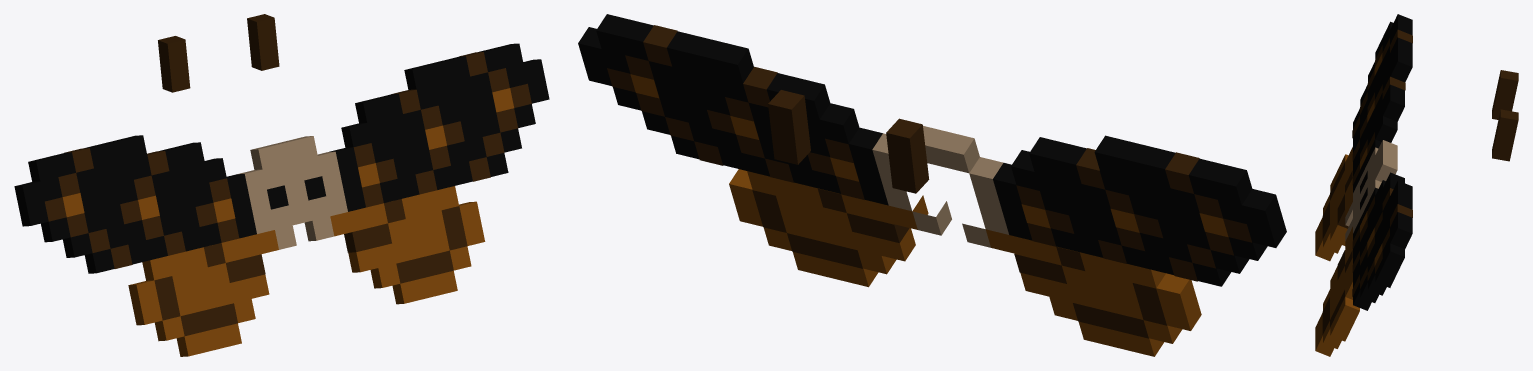
File: hat_premium_PixelMoth.glb
3 renders of one model, left to right at view 1: azimuth 30°, elevation 25°; view 2: azimuth 150°, elevation 25°; view 3: azimuth 270°, elevation 25°, orthographic. The views are drawn at different scales.
Visible parts, largest first — view 1: hat_premium_PixelMoth; view 2: hat_premium_PixelMoth; view 3: hat_premium_PixelMoth.
Boxes of the visible parts, box(x1,y1,x2,y2) form: hat_premium_PixelMoth: box(14, 14, 549, 356); hat_premium_PixelMoth: box(578, 14, 1286, 356); hat_premium_PixelMoth: box(1315, 14, 1518, 356).
Size of the model in its own units: 0.8974 by 0.3712 by 0.3353.
